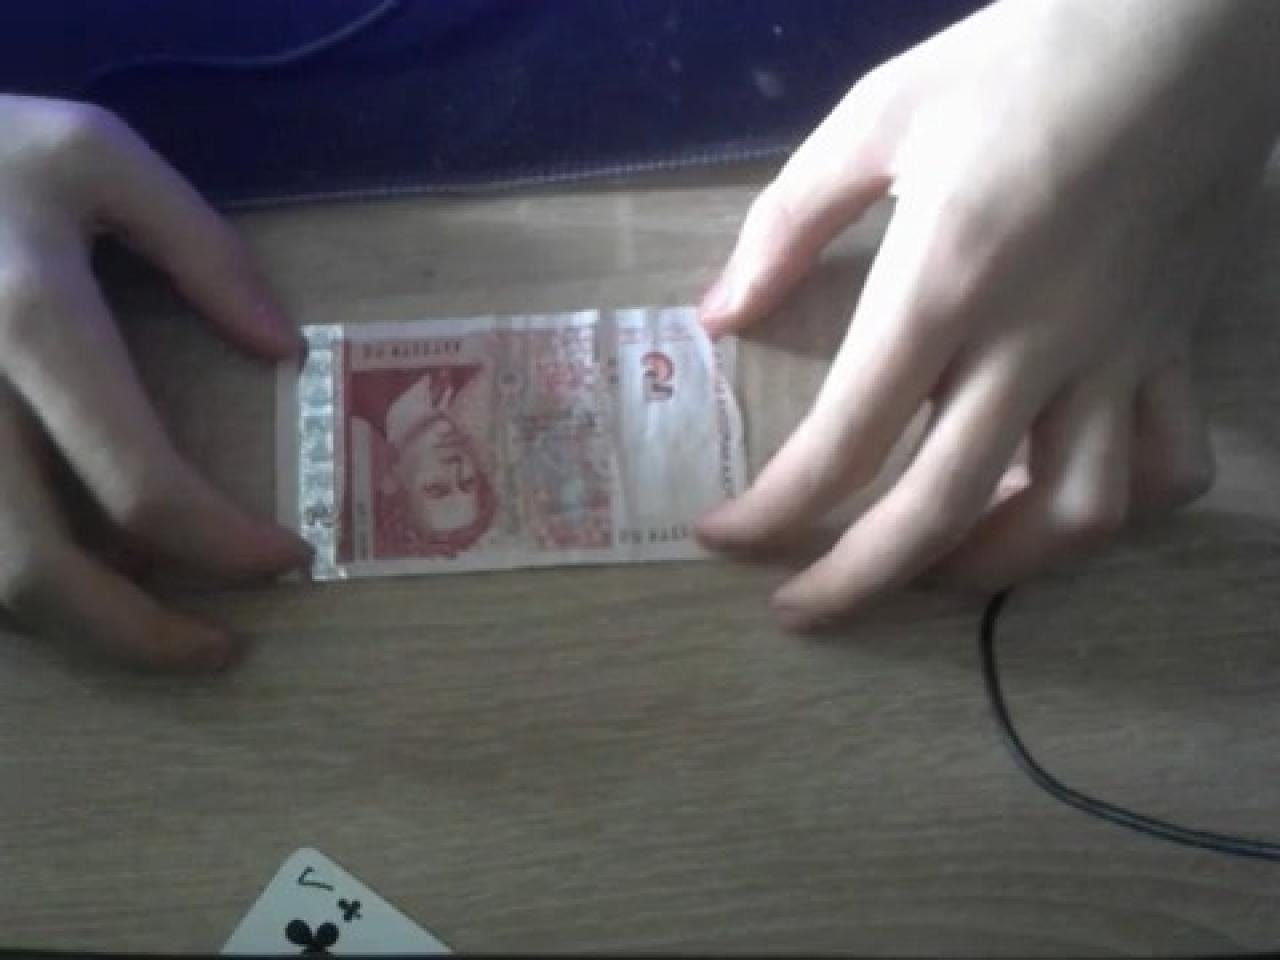5leva: (280, 307, 742, 581)
